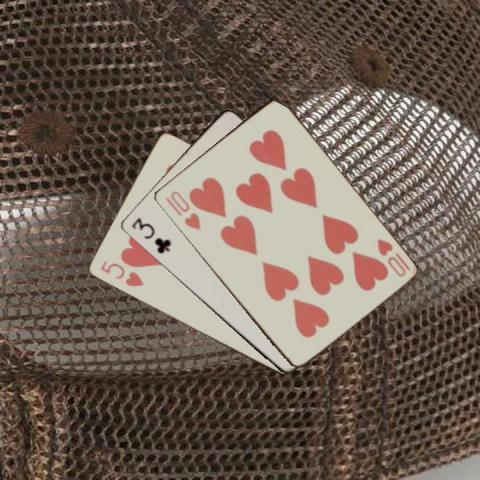10h: (162, 187, 202, 232), (373, 235, 412, 279)
3c: (128, 215, 173, 255)
5h: (98, 257, 146, 289)
